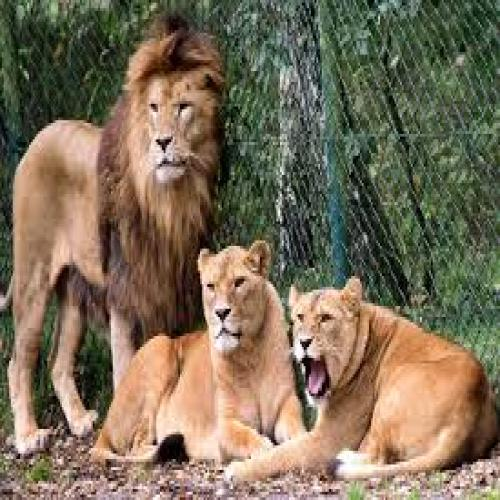lion-endangered: (6, 24, 222, 444), (245, 286, 500, 474), (99, 244, 305, 458)
